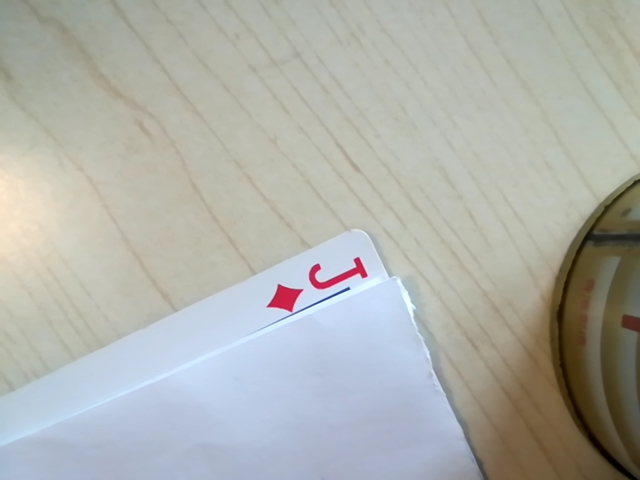fk j: (260, 253, 380, 313)
